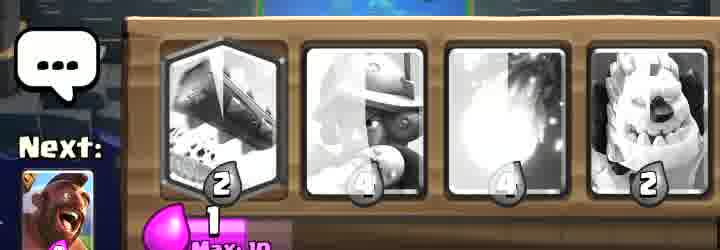hog-rider: (23, 171, 93, 250)
ice-golem: (592, 50, 704, 197)
